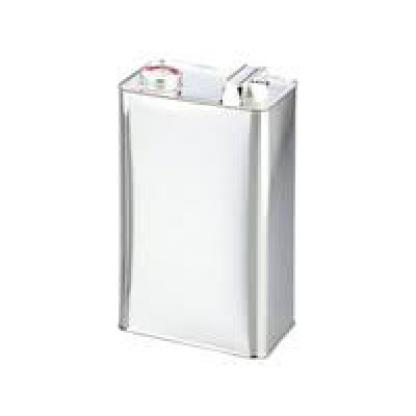METAL: (117, 58, 294, 358)
